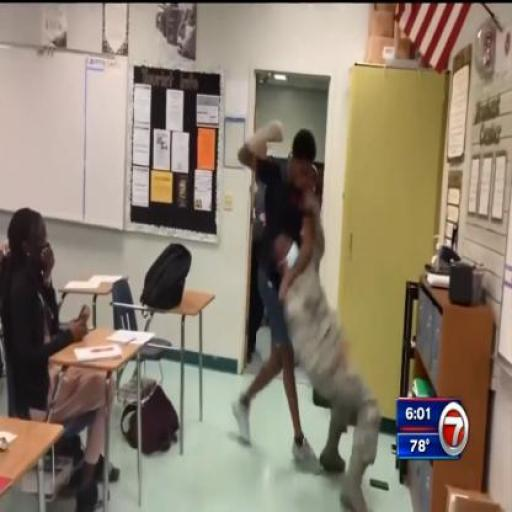Fighting: (232, 114, 382, 512)
